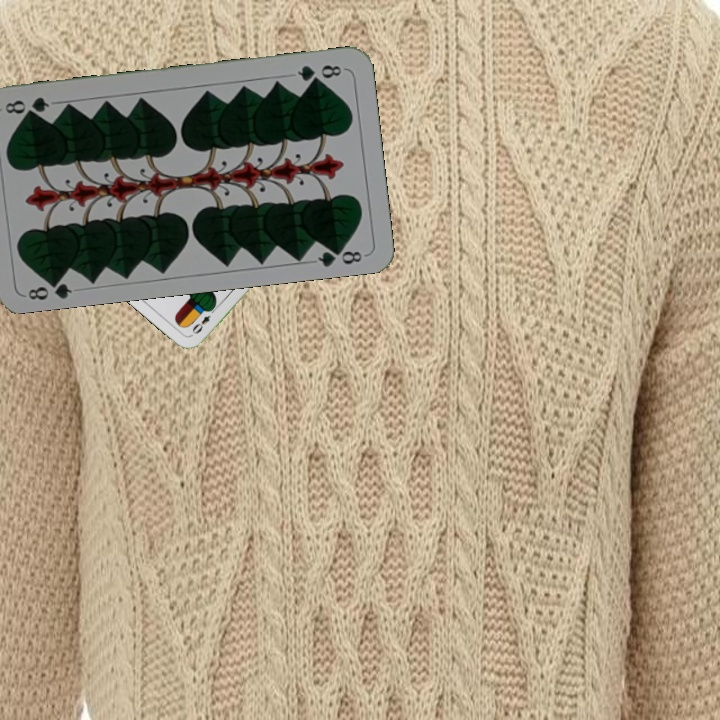EO: (188, 303, 219, 337)
G8: (24, 273, 75, 303), (293, 60, 344, 85)
